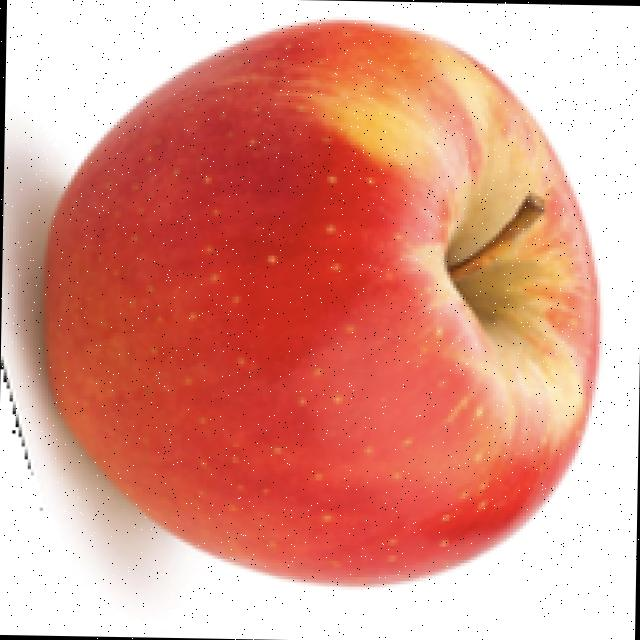apple: (2, 13, 605, 599)
